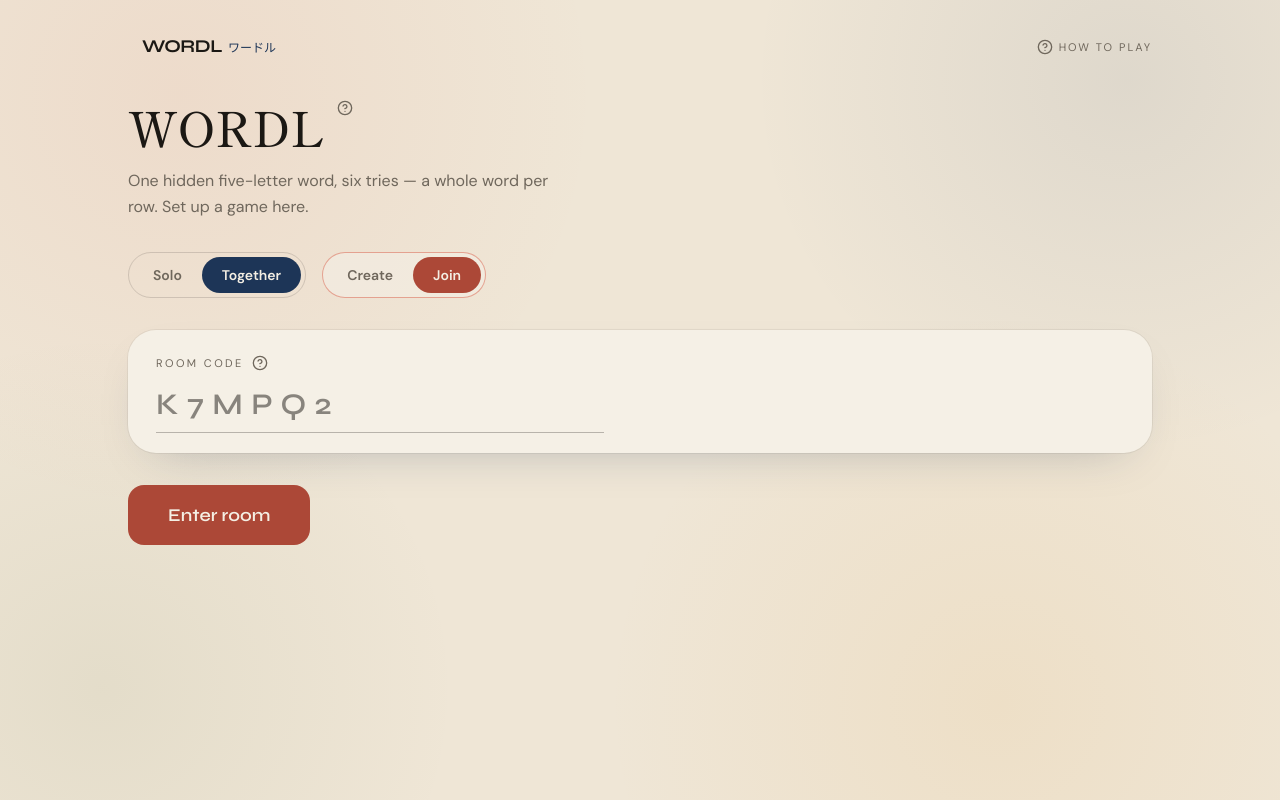
Setup › together mode › refuses to enter a room without a code
Click the button "Enter room": (219, 515) x1=128 y1=485 x2=310 y2=545
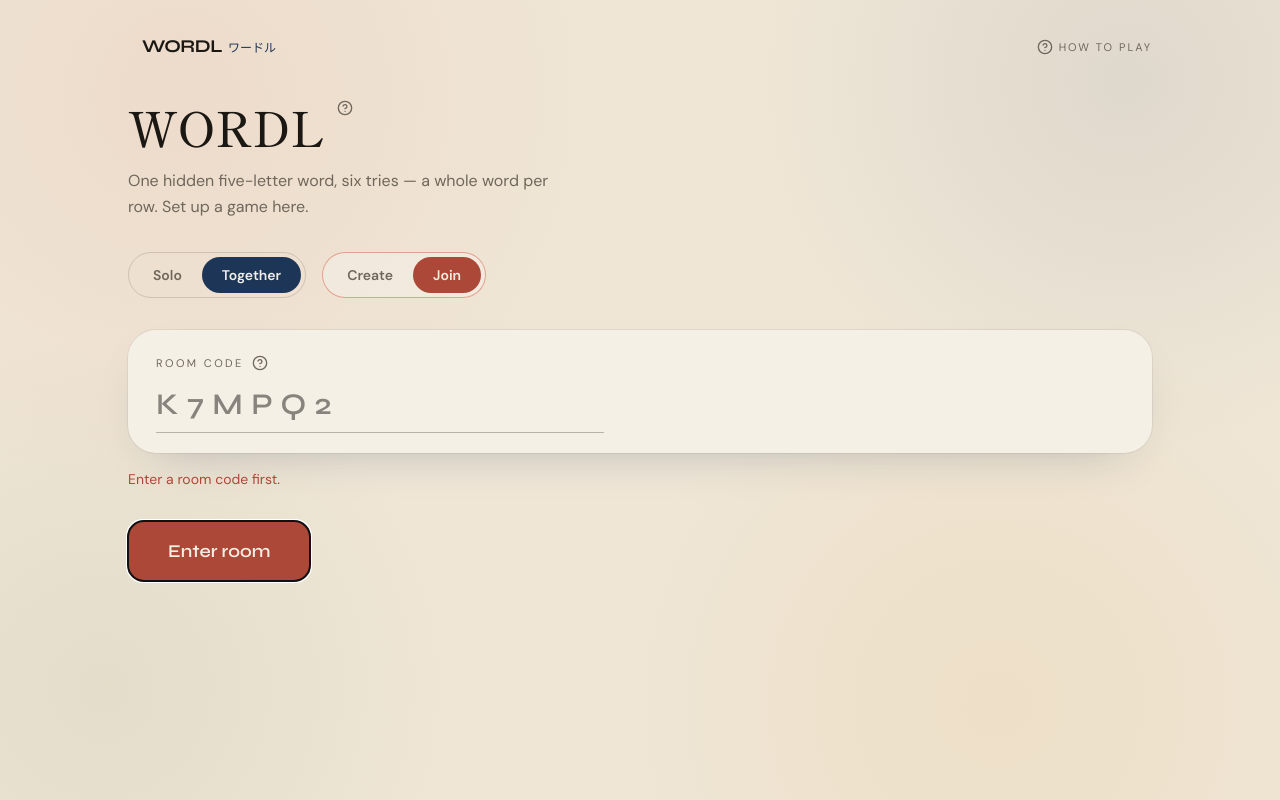
Check: the message reads "Enter a room code first.", box x1=128 y1=470 x2=280 y2=488
